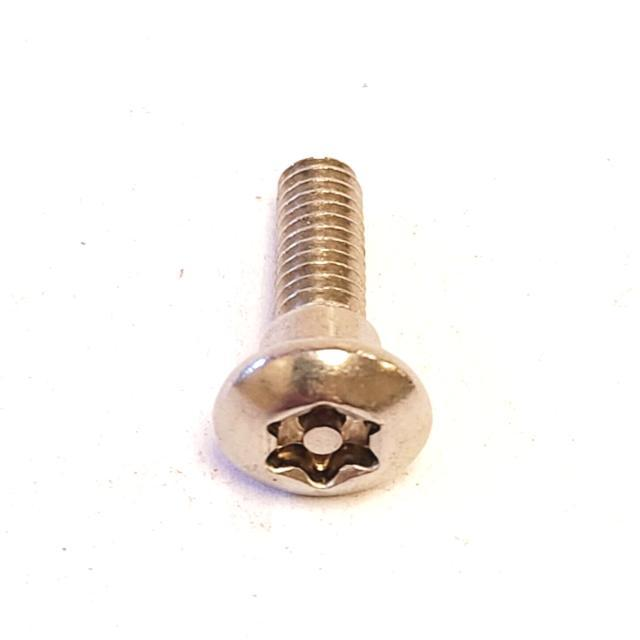torx: (211, 341, 434, 497)
